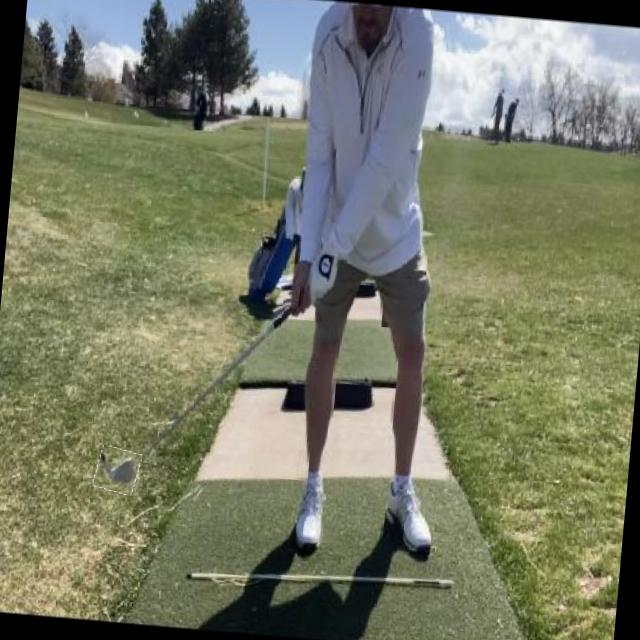club head: (93, 446, 141, 494)
